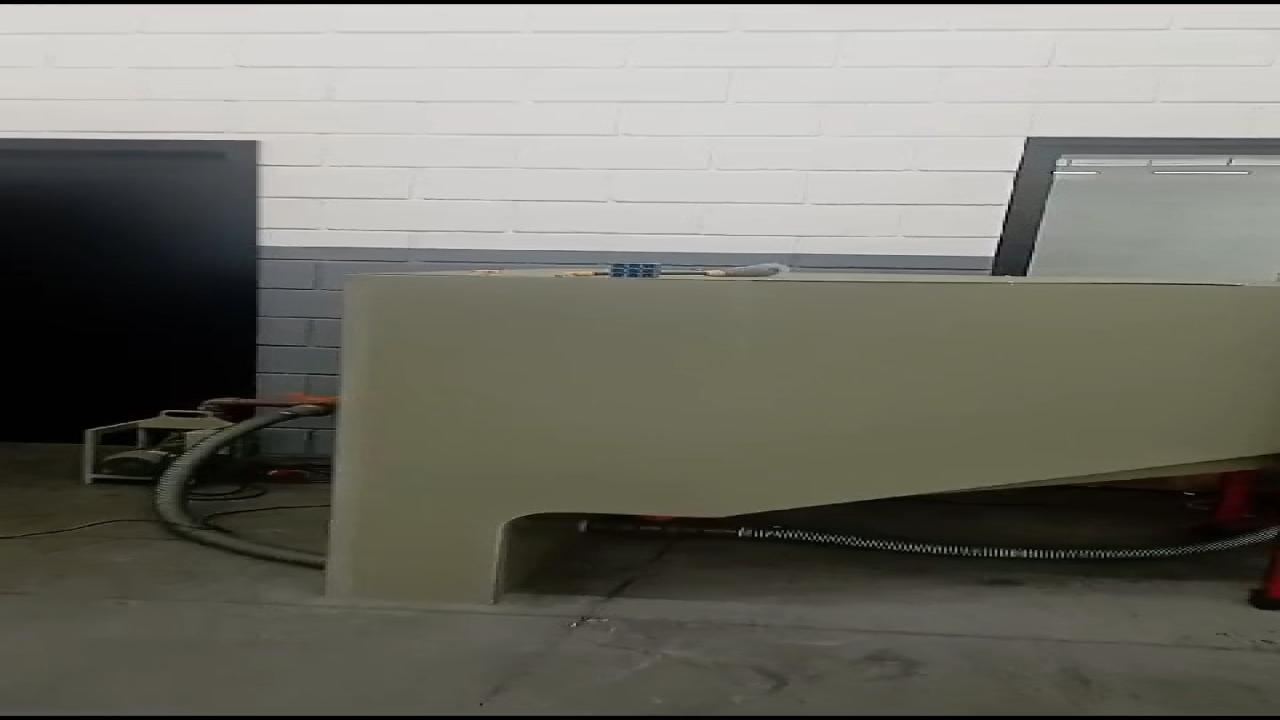Cube: (606, 262, 666, 282)
